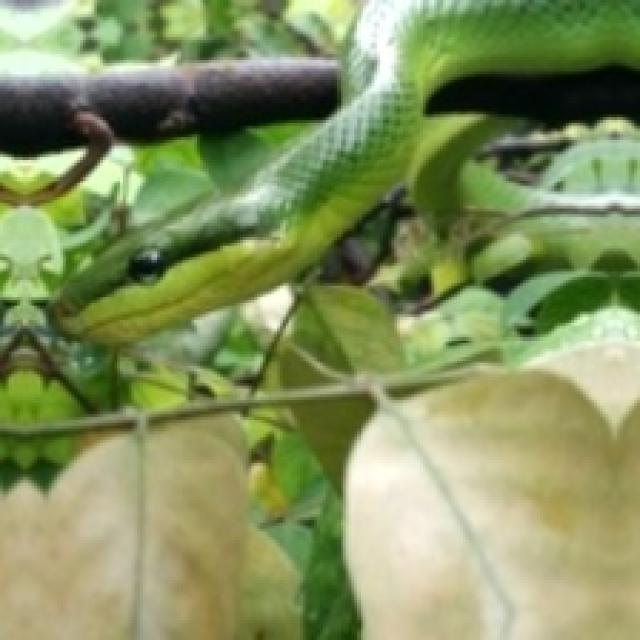red-tailed green ratsnake: (51, 0, 637, 343), (54, 0, 637, 340)
